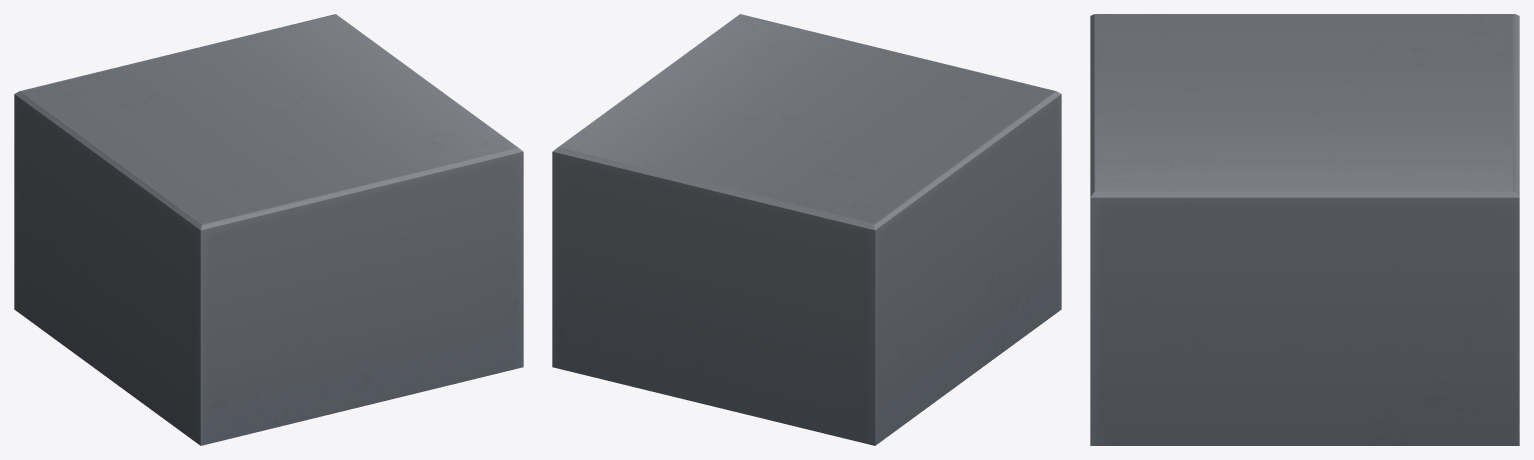
File: floor_iron01.fbx
The picture shows the model from 3 angles, left to right: view 1: azimuth 30°, elevation 25°; view 2: azimuth 150°, elevation 25°; view 3: azimuth 270°, elevation 25°; orthographic projection. The views are drawn at different scales.
Visible parts, largest first — view 1: floor_iron01; view 2: floor_iron01; view 3: floor_iron01.
Part boxes in pixels (x1,y1,x2,y2): floor_iron01: [14, 14, 523, 445]; floor_iron01: [552, 14, 1061, 445]; floor_iron01: [1090, 14, 1519, 445].
Bounding box in the file's own units: 100 × 64.82 × 100.
Materials: 1 (1 with a texture image).
